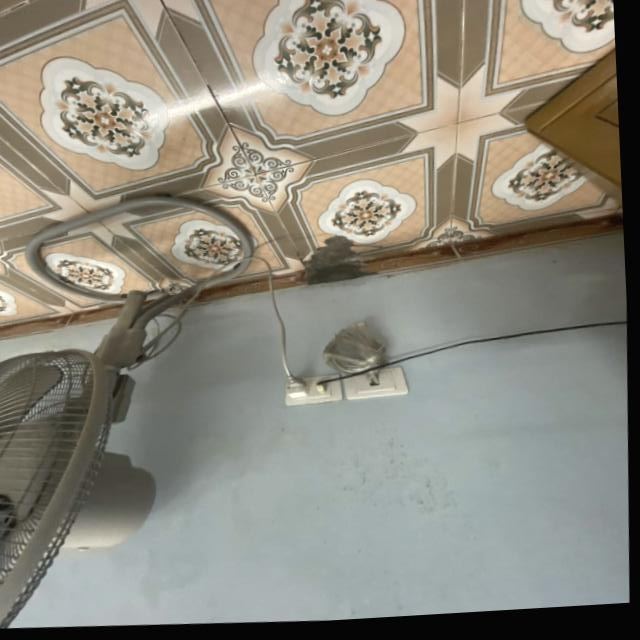outlet: (340, 364, 409, 403), (283, 372, 343, 409)
